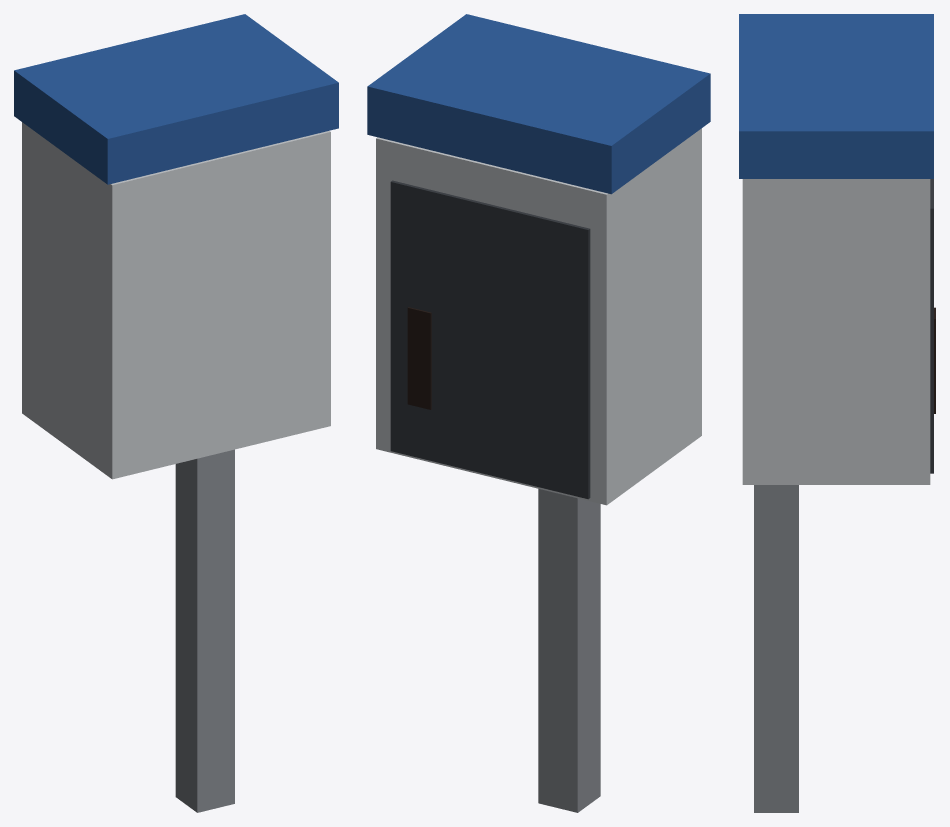
File: phone_booth_busstop.glb
3 renders of one model, left to right at view 1: azimuth 30°, elevation 25°; view 2: azimuth 150°, elevation 25°; view 3: azimuth 270°, elevation 25°, orthographic. The views are drawn at different scales.
Parts seen in each view (by area): view 1: Box2, Box6, Box1; view 2: Box3, Box2, Box6, Box1, Box5; view 3: Box2, Box6, Box1, Box3.
Part boxes in pixels (<box>): Box2: <box>22,122,330,479</box>; Box6: <box>14,14,338,184</box>; Box1: <box>175,449,234,812</box>; Box3: <box>390,180,590,499</box>; Box2: <box>376,128,701,505</box>; Box6: <box>367,14,710,194</box>; Box1: <box>538,489,600,812</box>; Box5: <box>407,307,431,409</box>; Box2: <box>742,179,930,484</box>; Box6: <box>739,14,933,178</box>; Box1: <box>754,485,798,812</box>; Box3: <box>930,179,933,473</box>.
Size of the model in its own units: 0.74 by 2.15 by 0.525.
